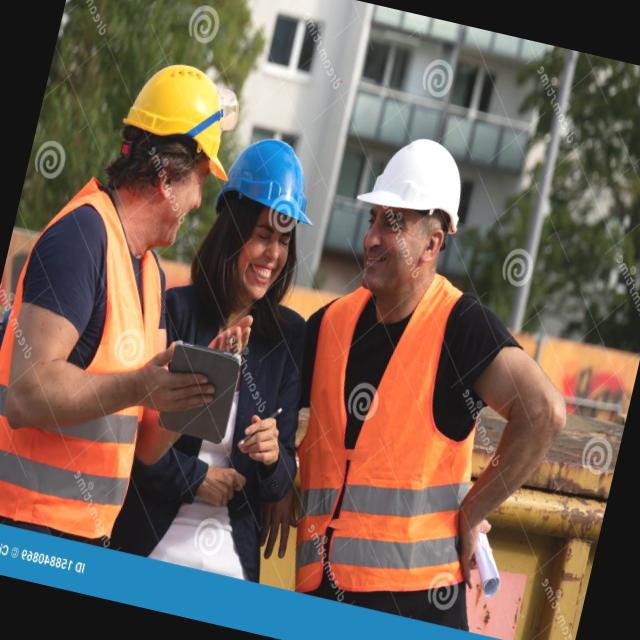helmet: (111, 48, 252, 187), (349, 116, 485, 238), (214, 128, 327, 232)
no-goggles: (346, 198, 444, 262), (146, 144, 220, 202), (222, 210, 302, 260)
no-vest: (115, 273, 310, 573)
vest: (258, 251, 488, 612), (0, 165, 189, 546)
